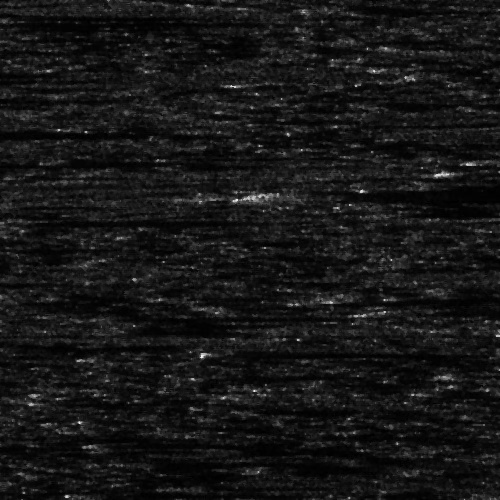object: (53, 309, 158, 322), (238, 190, 343, 201), (210, 346, 283, 353), (85, 488, 138, 497), (0, 12, 24, 29), (367, 306, 408, 315), (0, 217, 44, 224)
shadow: (0, 12, 233, 29), (106, 309, 326, 322), (291, 190, 500, 201), (112, 488, 318, 497), (0, 127, 141, 140), (247, 346, 471, 353), (0, 217, 217, 224), (388, 306, 500, 315), (0, 10, 102, 19)
